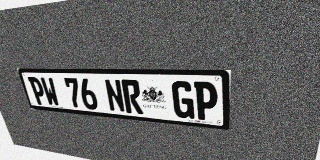6: (77, 78, 99, 110)
7: (63, 78, 84, 109)
G: (171, 81, 194, 119)
N: (104, 79, 126, 113)
P: (194, 81, 218, 121), (27, 77, 48, 105)
R: (121, 79, 143, 114)
W: (40, 77, 61, 107)
